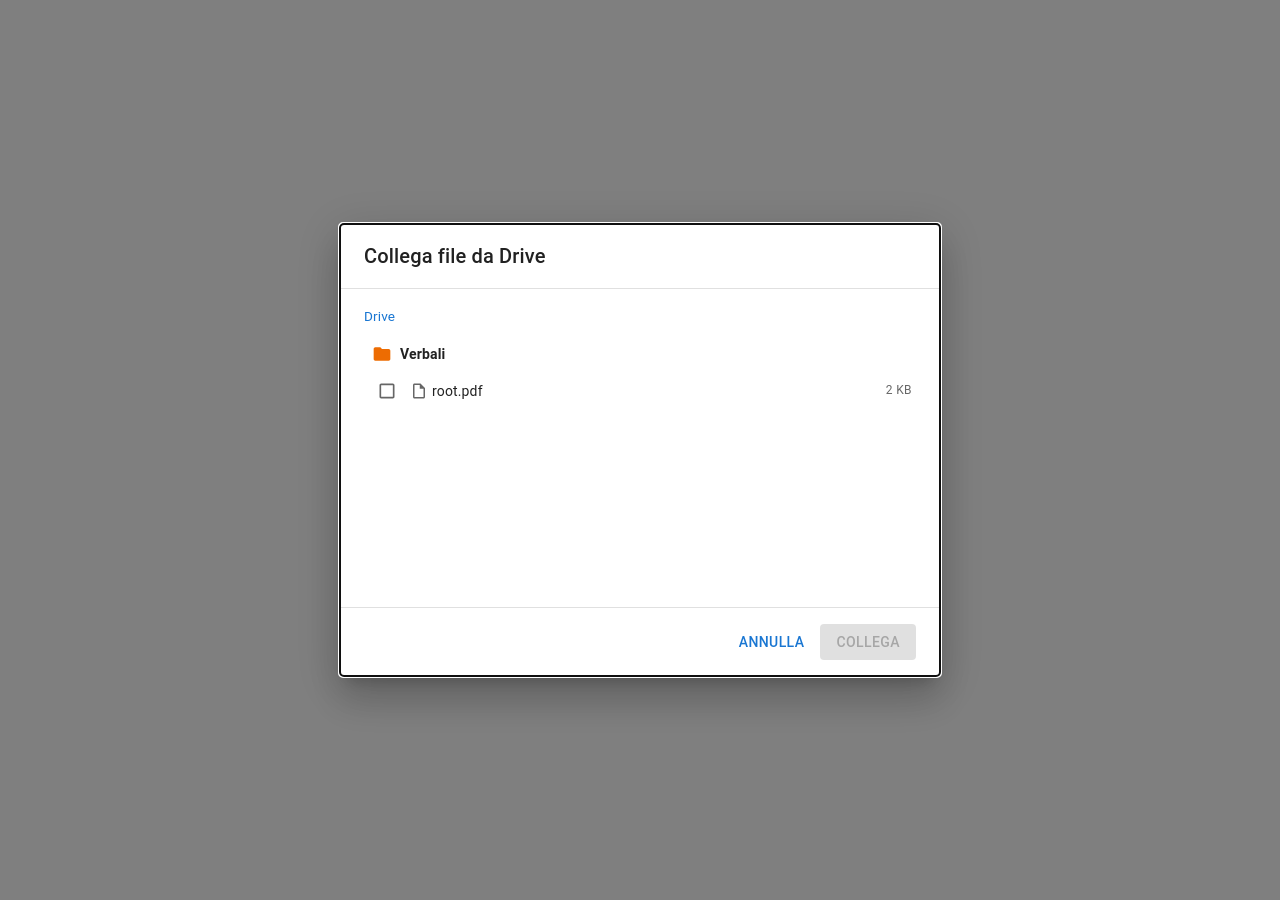
Test: DriveFilePickerDialog › goes back to the root from the breadcrumb
Click the text "Verbali": (423,354) x1=400 y1=344 x2=445 y2=364
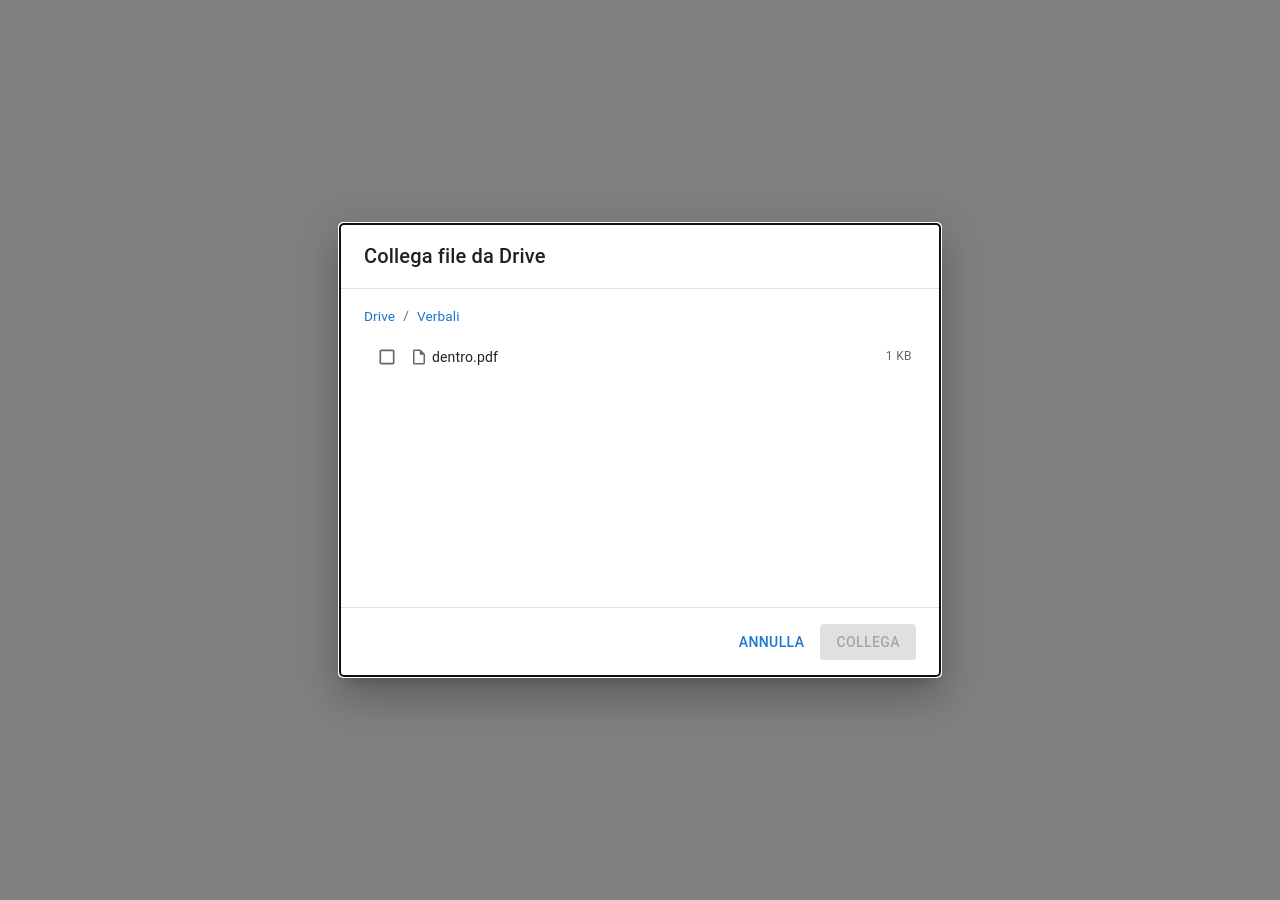
Result: the text "dentro.pdf" is shown at x1=432 y1=349 x2=498 y2=365
Click the button "Drive": (380,316) x1=364 y1=306 x2=395 y2=326
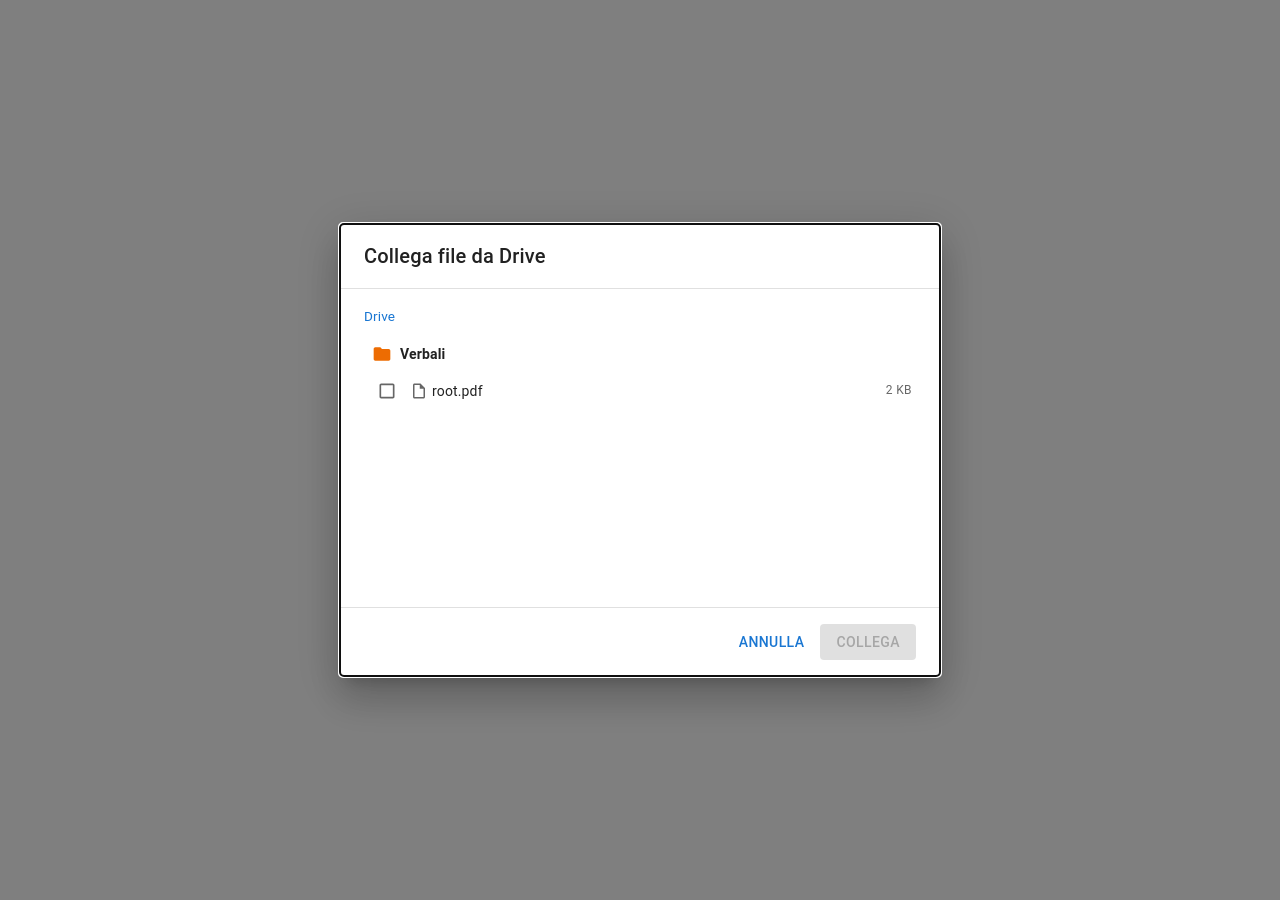
Result: the text "root.pdf" is shown at x1=432 y1=383 x2=483 y2=399
